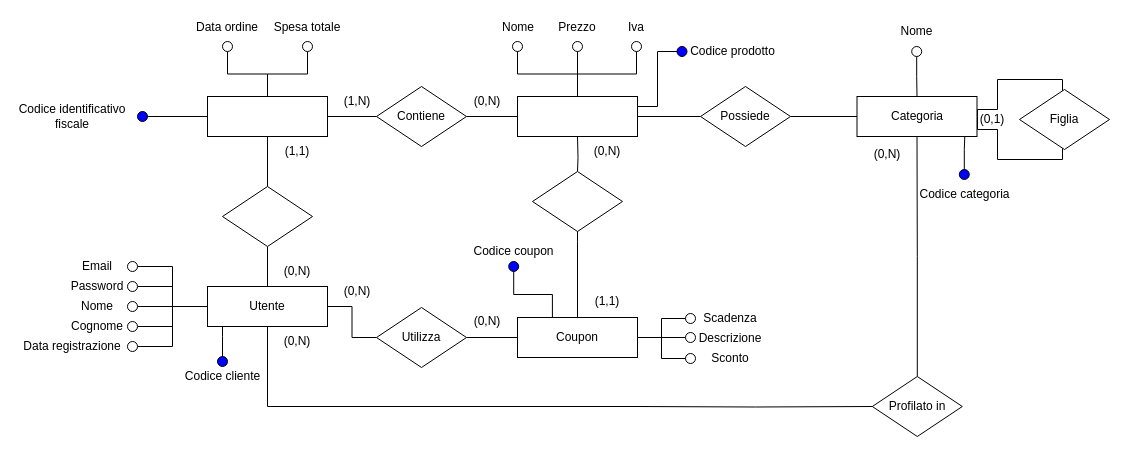
The diagram is 1127 pixels wide and 454 high, and some of its shapes have lost their labels. The shapes that lost their labels are listed below. From the top down, each one's centre as x and y in pixels, then its label:
point (267, 116): Ordine
point (577, 116): Prodotto
point (267, 216): Effettua
point (577, 201): Per
